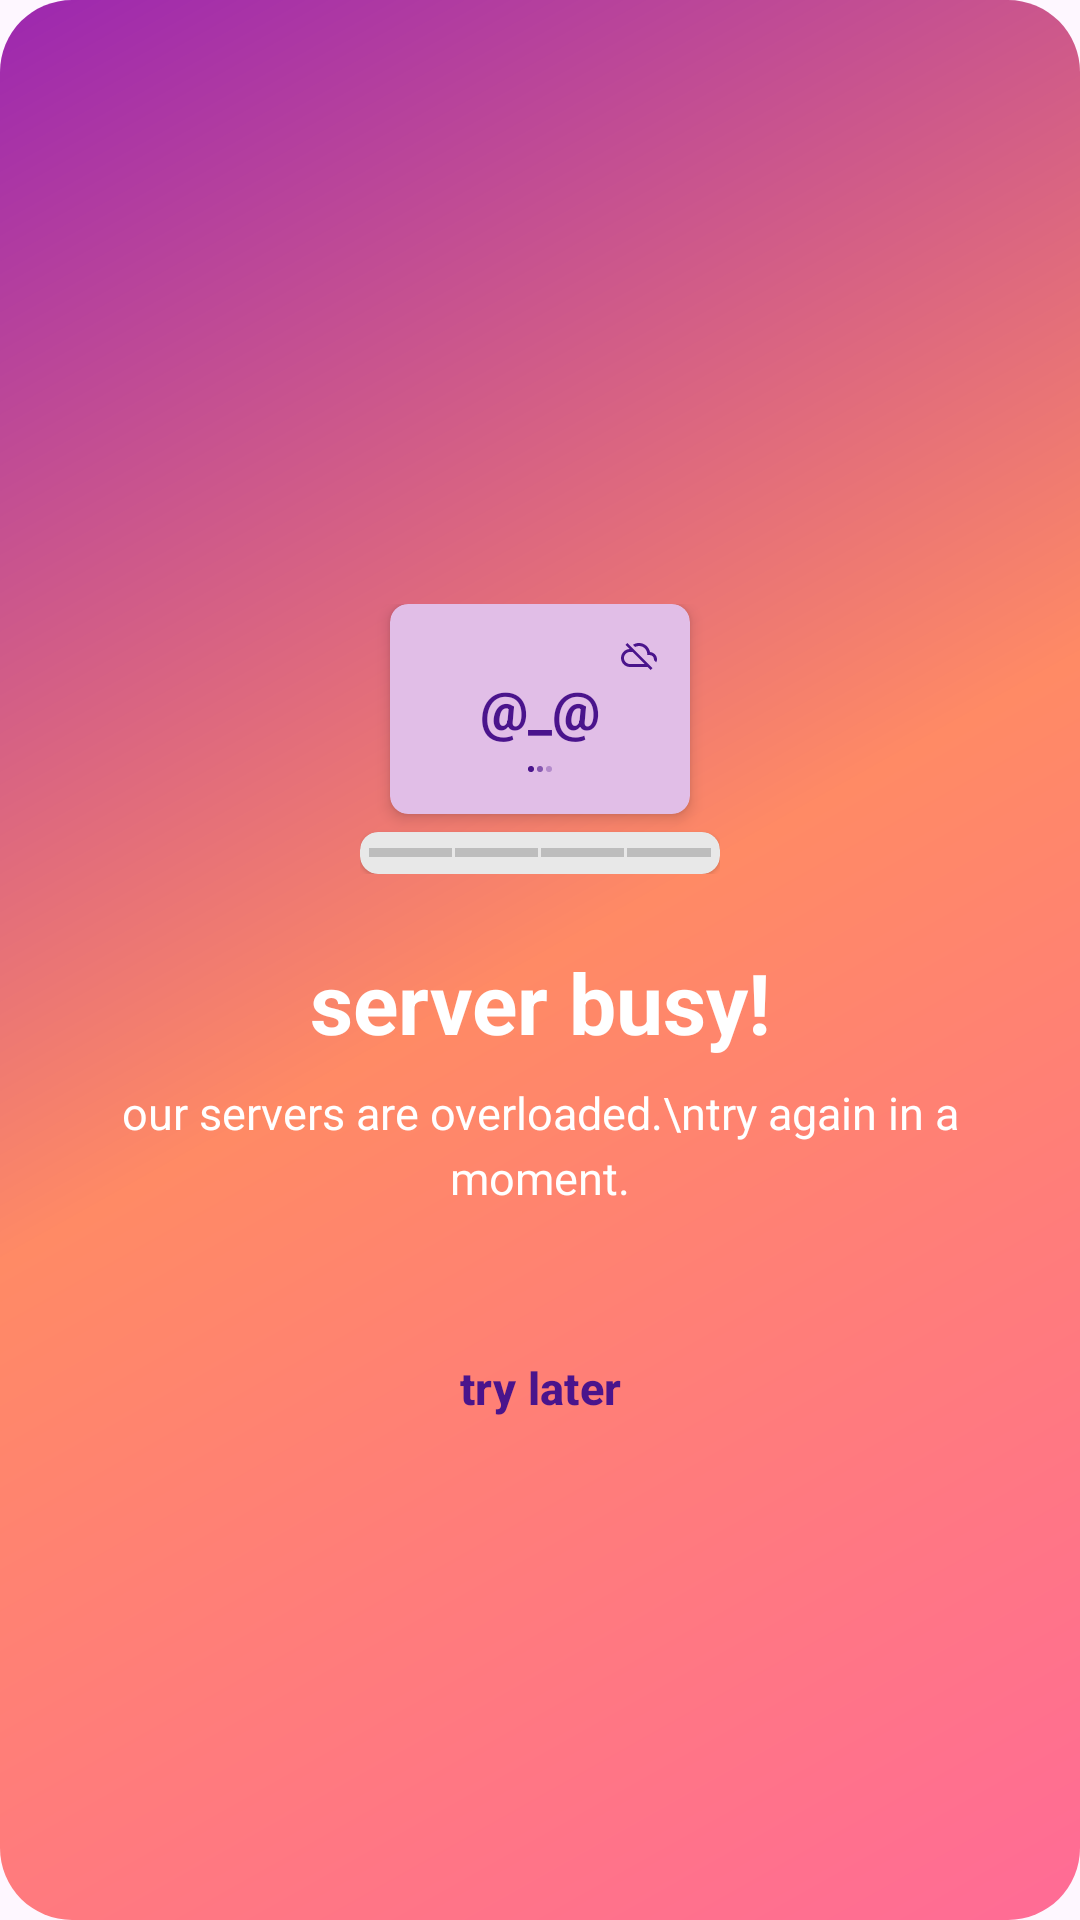

Screen size 1080px×1920px. Icon name, then its center in pixels as [x,y]:
cloud off: [639,656]
